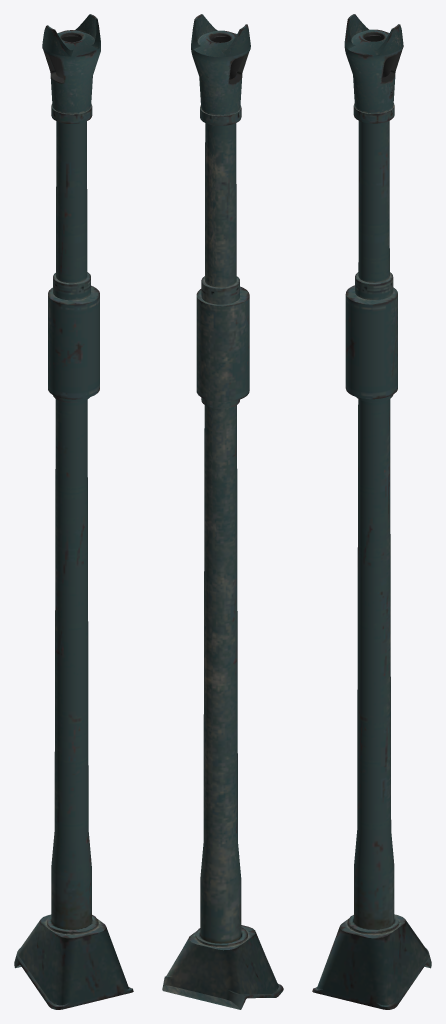
File: Gun_01.glb
3 views of the same model, side by side, from view 1: azimuth 30°, elevation 25°; view 2: azimuth 150°, elevation 25°; view 3: azimuth 330°, elevation 25° (orthographic).
Parts seen in each view (by area): view 1: set_0_group_0; view 2: set_0_group_0; view 3: set_0_group_0.
Part boxes in pixels (x1=…): set_0_group_0: x1=14, y1=14, x2=133, y2=1009; set_0_group_0: x1=162, y1=14, x2=283, y2=1009; set_0_group_0: x1=312, y1=14, x2=431, y2=1009.
Bounding box in the file's own units: 0.4498 × 5.36 × 0.4814.
1 material, 1 textured.
